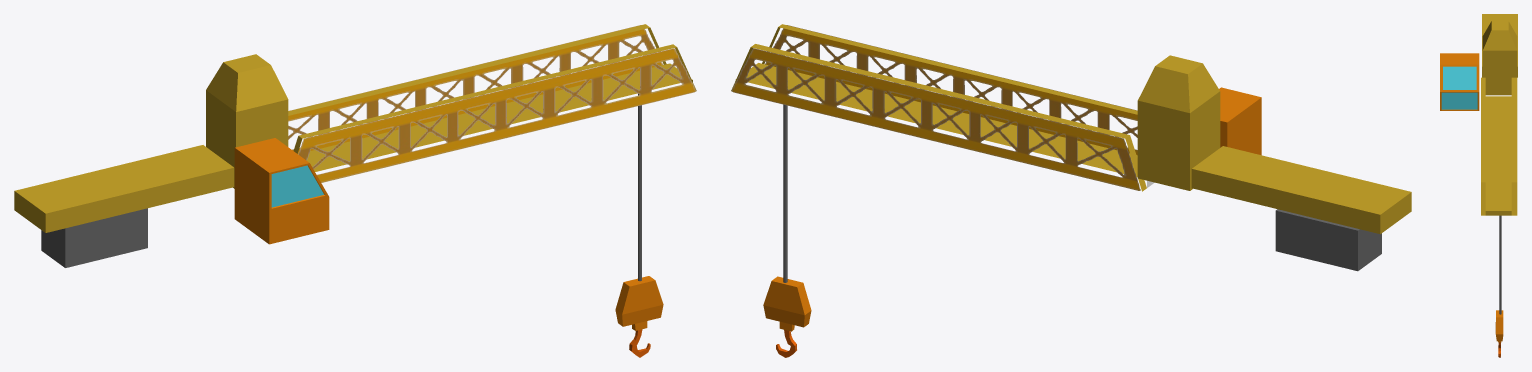
Rendered from Кран верх.fbx.
3 renders of one model, left to right at view 1: azimuth 30°, elevation 25°; view 2: azimuth 150°, elevation 25°; view 3: azimuth 270°, elevation 25°, orthographic. The views are drawn at different scales.
Visible parts, largest first — view 1: Кран верх, Cube.003, Cube.001, Crane.003, Cube.002, Кран верх.001, Crane.002, Crane.001, Crane Cable; view 2: Кран верх.001, Cube.003, Cube.001, Cube.002, Кран верх, Crane.002, Crane.003, Crane.001, Crane Cable; view 3: Cube.001, Cube.002, Crane.003, Cube.003, Crane.001, Crane Cable.
Part boxes in pixels (x1,y1,x2,y2): Кран верх: (298, 48, 695, 182); Cube.003: (14, 145, 234, 232); Cube.001: (288, 24, 696, 171); Crane.003: (234, 138, 329, 244); Cube.002: (206, 54, 288, 188); Кран верх.001: (288, 25, 662, 153); Crane.002: (41, 208, 147, 267); Crane.001: (615, 276, 663, 357); Crane Cable: (638, 94, 641, 281); Кран верх.001: (731, 48, 1140, 190); Cube.003: (1191, 146, 1411, 234); Cube.001: (731, 24, 1154, 191); Cube.002: (1137, 55, 1220, 190); Кран верх: (765, 25, 1137, 155); Crane.002: (1275, 209, 1381, 271); Crane.003: (1219, 87, 1261, 155); Crane.001: (763, 276, 811, 357); Crane Cable: (783, 104, 787, 282); Cube.001: (1481, 77, 1517, 215); Cube.002: (1482, 21, 1517, 95); Crane.003: (1440, 53, 1479, 110); Cube.003: (1482, 14, 1517, 77); Crane.001: (1495, 310, 1503, 357); Crane Cable: (1499, 215, 1501, 314).
Size of the model in its own units: 997 by 568 by 180.
Materials: 7 (2 with a texture image).
